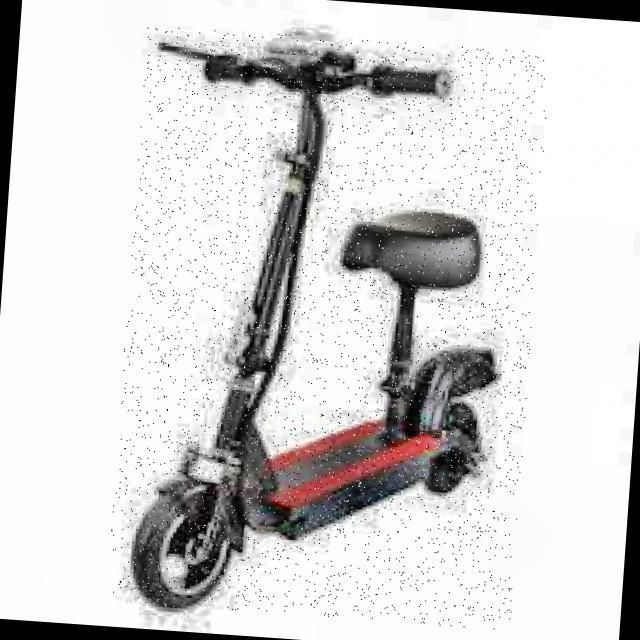bike: (133, 18, 528, 619)
traffic light: (341, 207, 481, 288)
